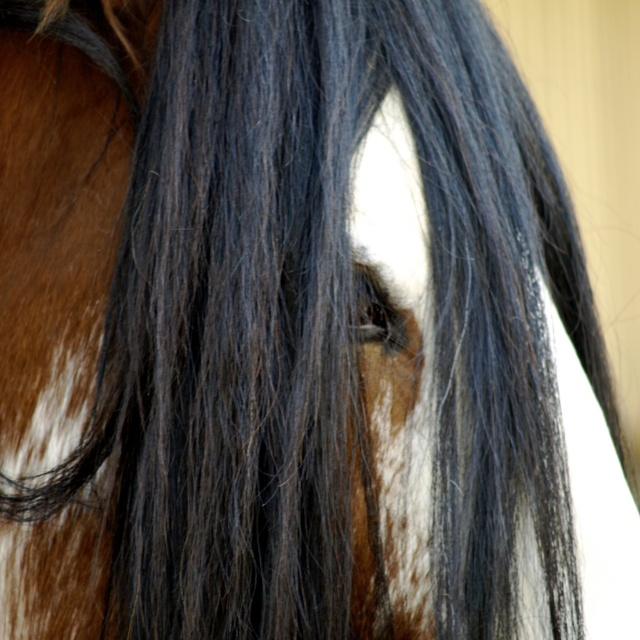Horse: (0, 1, 640, 639)
